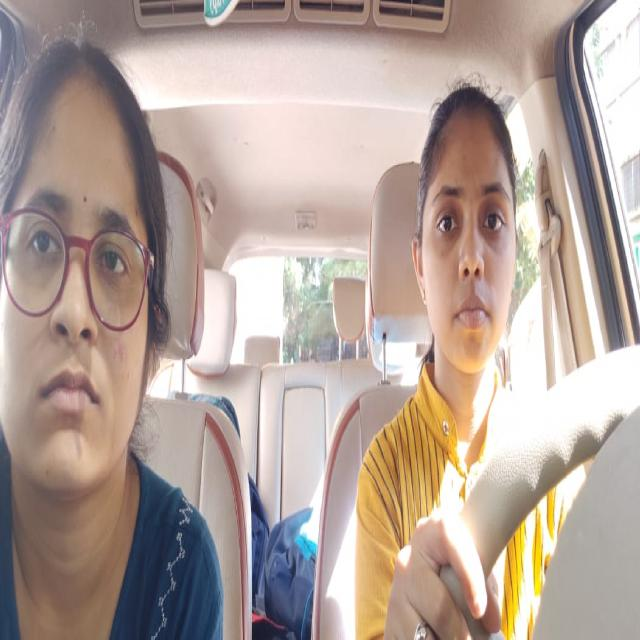person: (0, 40, 181, 499), (408, 82, 522, 386)
